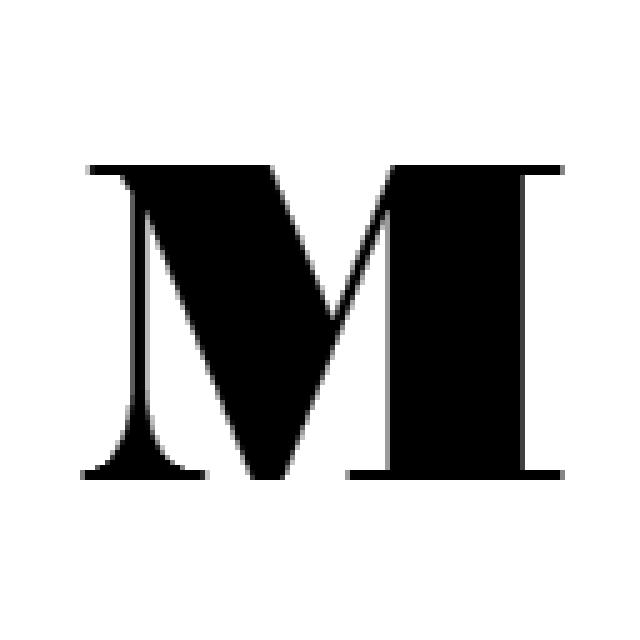M: (67, 152, 587, 494)
